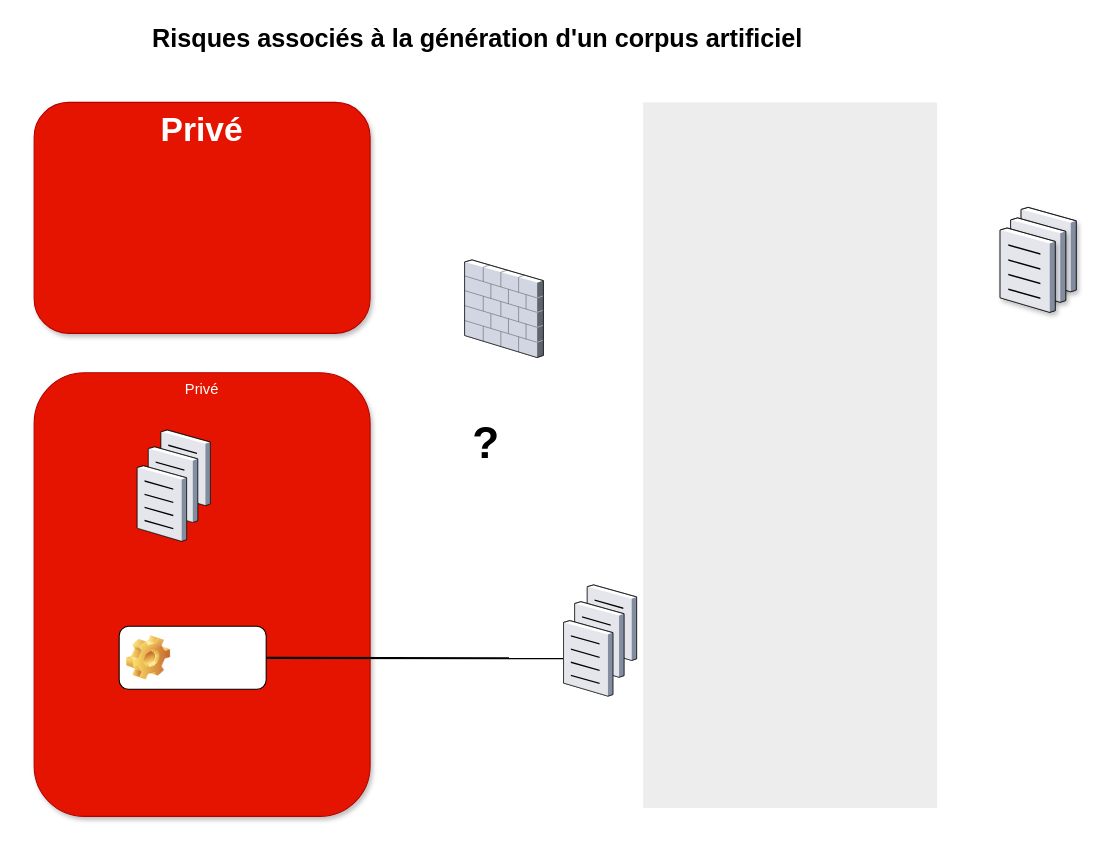
The diagram is 1101 pixels wide and 842 high, and some of its shapes have lost their labels. The centre of each missing label's shape, as x and y in pixels:
Corpus artificiel: (x=790, y=454)
Modèle: (x=192, y=657)
